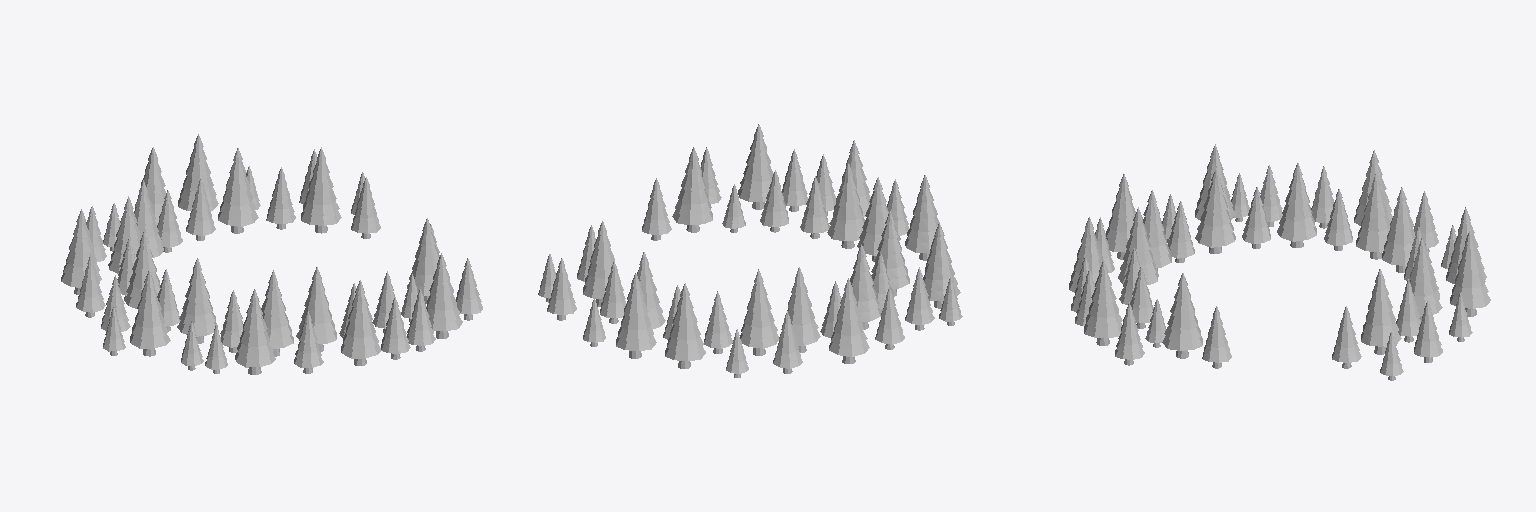
Rendered from tree_2.obj.
3 renders of one model, left to right at view 1: azimuth 30°, elevation 25°; view 2: azimuth 150°, elevation 25°; view 3: azimuth 270°, elevation 25°, orthographic.
Bounding box in the file's own units: 40.27 × 9.75 × 42.67.